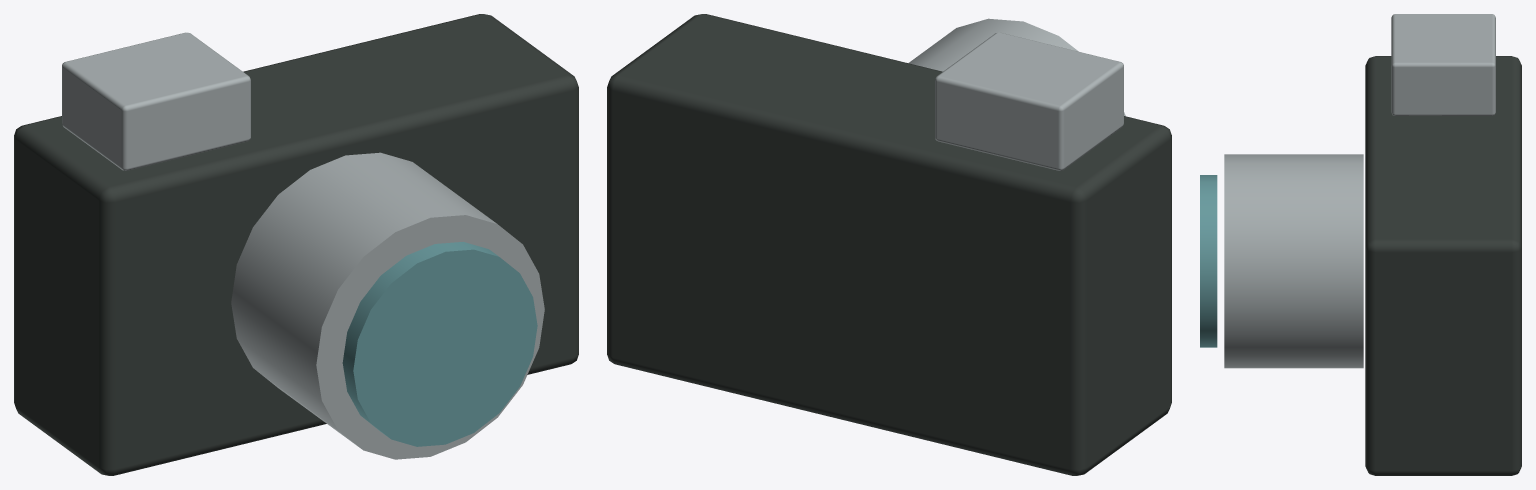
The model's file is scavengers-loot-library-camera-39ba612a__2638.glb.
3 views of the same model, side by side, from view 1: azimuth 30°, elevation 25°; view 2: azimuth 150°, elevation 25°; view 3: azimuth 270°, elevation 25° (orthographic). The views are drawn at different scales.
Visible parts, largest first — view 1: camera; view 2: camera; view 3: camera.
Part boxes in pixels (left/top/right/bottom): camera: left=14, top=14, right=578, bottom=475; camera: left=607, top=14, right=1171, bottom=475; camera: left=1200, top=14, right=1521, bottom=475.
Size of the model in its own units: 0.13 by 0.092 by 0.0925.
